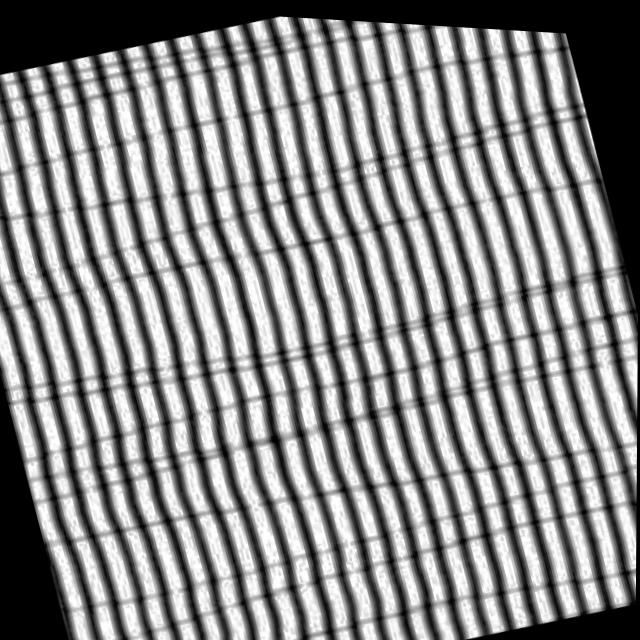Stitch: (59, 3, 506, 179)
